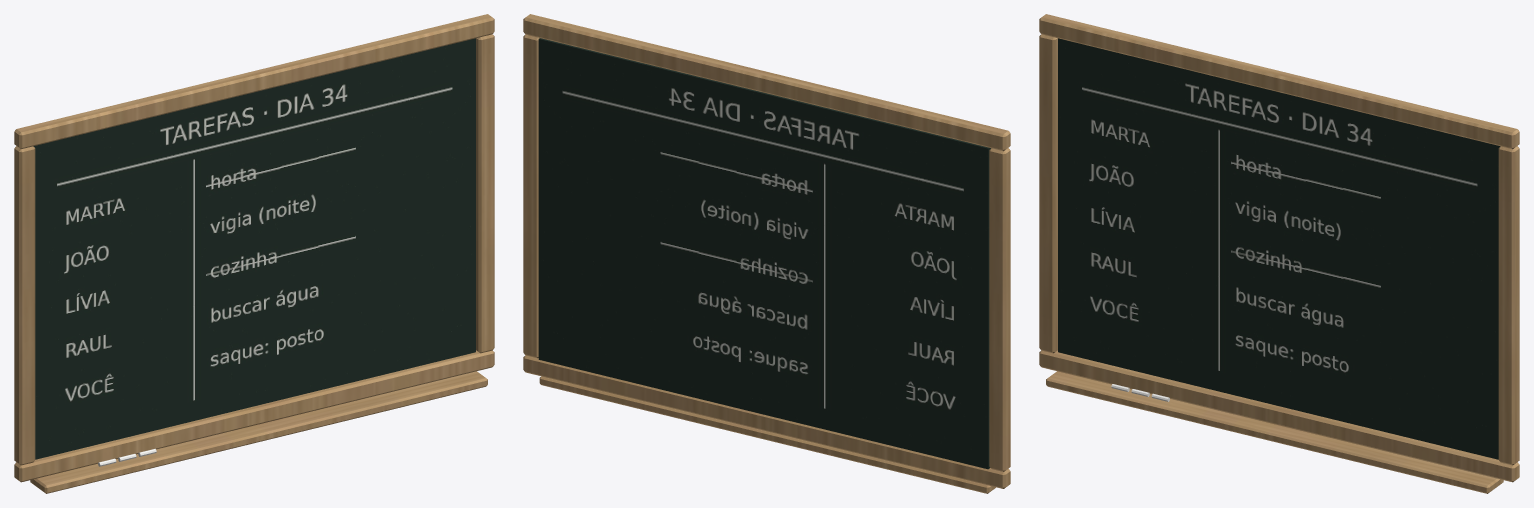
File: quadro_tarefas.glb
3 renders of one model, left to right at view 1: azimuth 30°, elevation 25°; view 2: azimuth 150°, elevation 25°; view 3: azimuth 330°, elevation 25°, orthographic.
Visible parts, largest first — view 1: quadro_tarefas_lousa_tarefas, quadro_tarefas_madeira_crua; view 2: quadro_tarefas_lousa_tarefas, quadro_tarefas_madeira_crua; view 3: quadro_tarefas_lousa_tarefas, quadro_tarefas_madeira_crua.
Part boxes in pixels (box(x1,y1,x2,y2)): quadro_tarefas_lousa_tarefas: box(33, 38, 475, 459); quadro_tarefas_madeira_crua: box(14, 14, 494, 493); quadro_tarefas_lousa_tarefas: box(538, 38, 990, 469); quadro_tarefas_madeira_crua: box(523, 14, 1010, 493); quadro_tarefas_lousa_tarefas: box(1058, 38, 1500, 459); quadro_tarefas_madeira_crua: box(1039, 14, 1519, 493).
Bounding box in the file's own units: 1.18 × 0.85 × 0.07.
3 materials, 2 textured.
